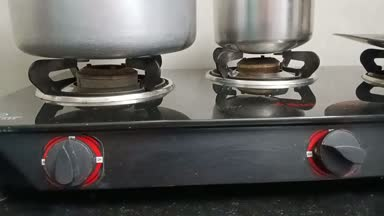noflame_gason: (211, 44, 368, 184), (19, 50, 164, 197)
